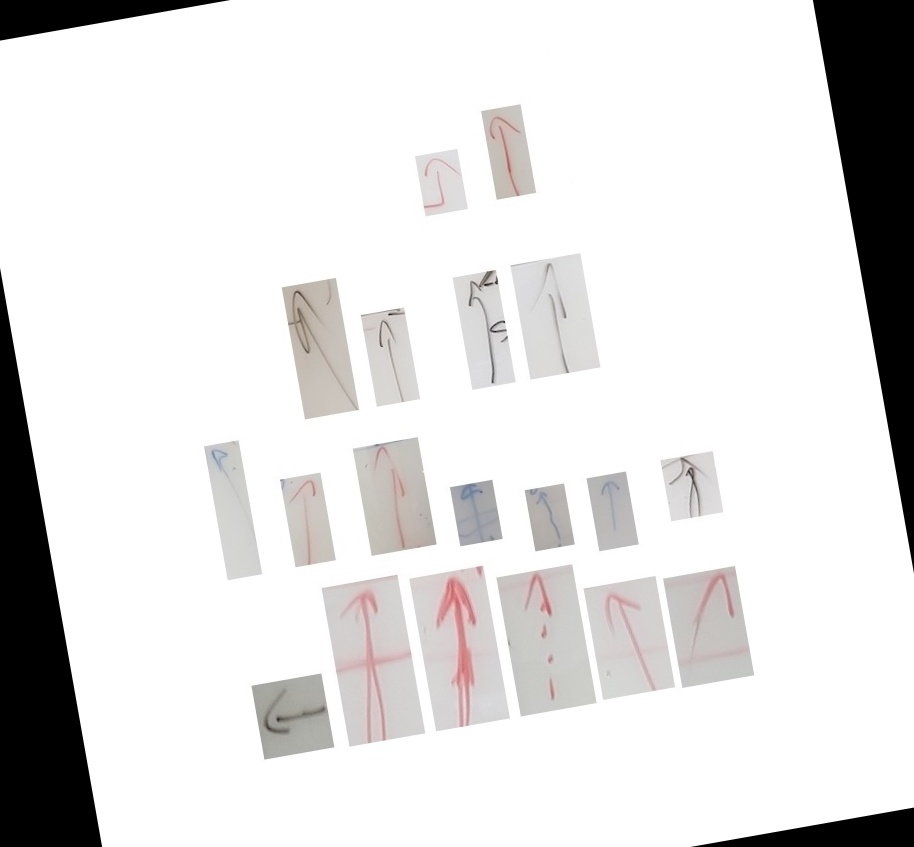arrow: (251, 587, 342, 743), (344, 580, 426, 697), (180, 657, 255, 784), (208, 288, 284, 399), (442, 268, 514, 372), (434, 576, 503, 678), (287, 446, 355, 545), (521, 591, 588, 685), (592, 581, 669, 659), (381, 281, 437, 380), (206, 482, 262, 567), (287, 323, 345, 401), (411, 117, 459, 192), (589, 462, 646, 518), (516, 480, 565, 545), (132, 451, 178, 517), (377, 487, 428, 542), (453, 494, 499, 550), (345, 160, 390, 205)
